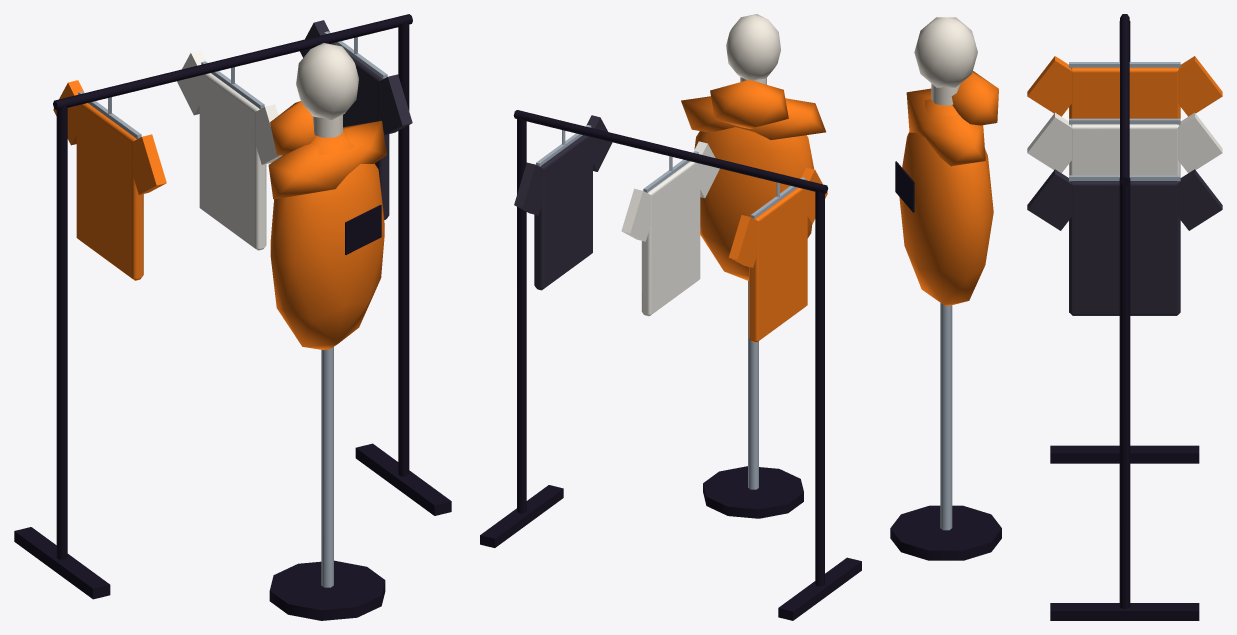
File: station_special_ausstattung_1_1.glb
3 renders of one model, left to right at view 1: azimuth 30°, elevation 25°; view 2: azimuth 150°, elevation 25°; view 3: azimuth 270°, elevation 25°, orthographic. The views are drawn at different scales.
Visible parts, largest first — view 1: station_special_ausstattung_1_1; view 2: station_special_ausstattung_1_1; view 3: station_special_ausstattung_1_1.
Part boxes in pixels (x1,y1,x2,y2): station_special_ausstattung_1_1: (14,14,451,620); station_special_ausstattung_1_1: (480,14,861,620); station_special_ausstattung_1_1: (890,14,1222,620).
Bounding box in the file's own units: 1.05 × 1.54 × 0.8923.
